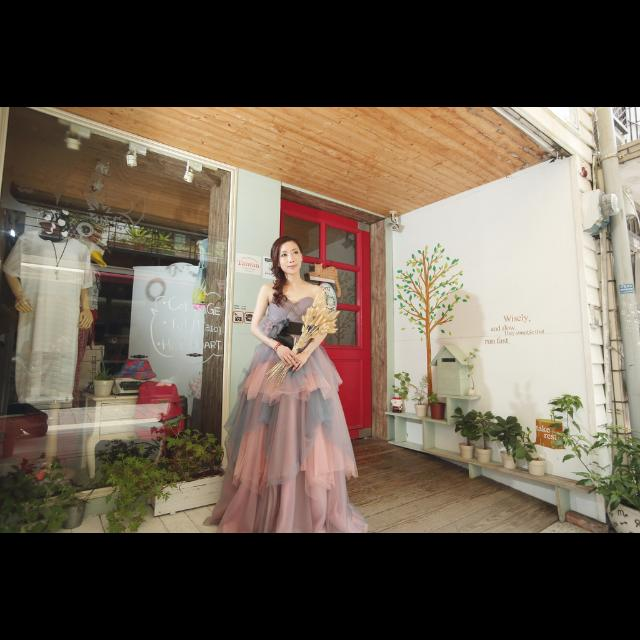Flower: (38, 470, 44, 480)
